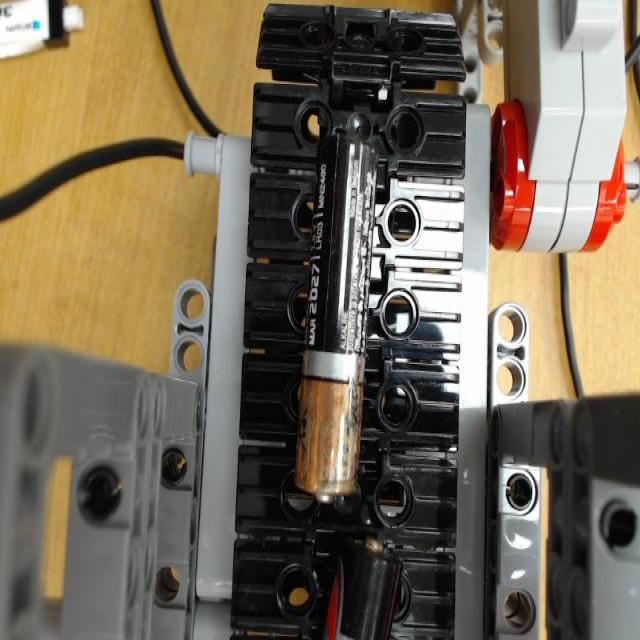AA: (294, 136, 378, 503), (322, 538, 402, 640)
